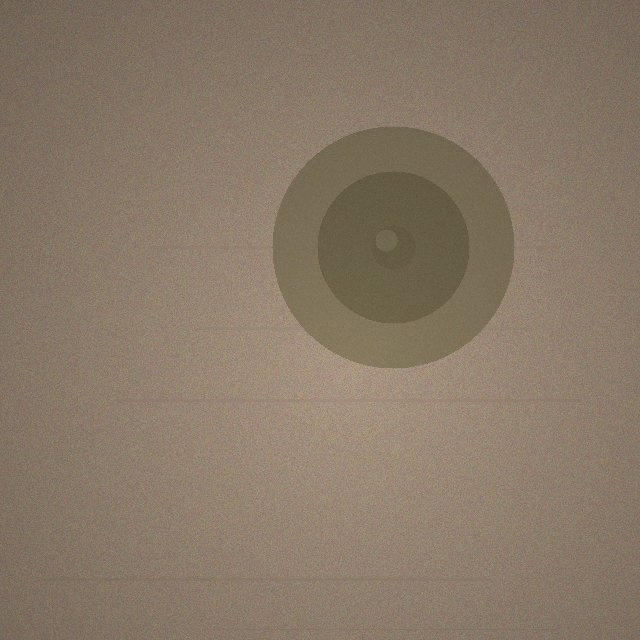good: (272, 126, 514, 368)
